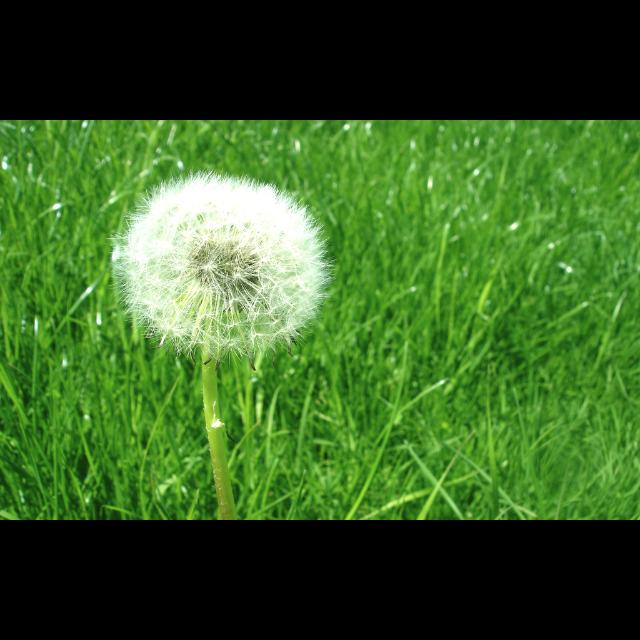Flower: (104, 164, 338, 366)
